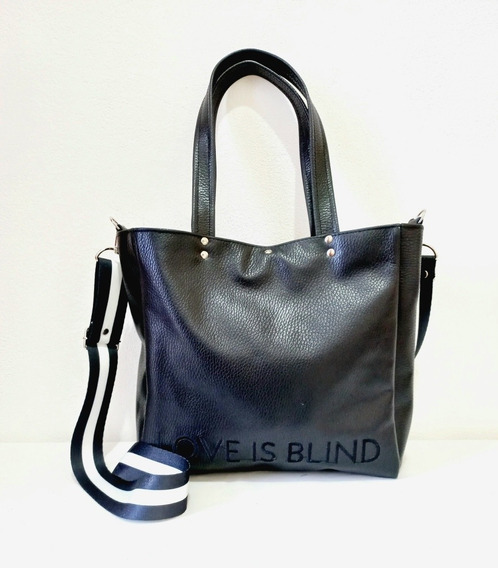cartera: (114, 47, 424, 480)
